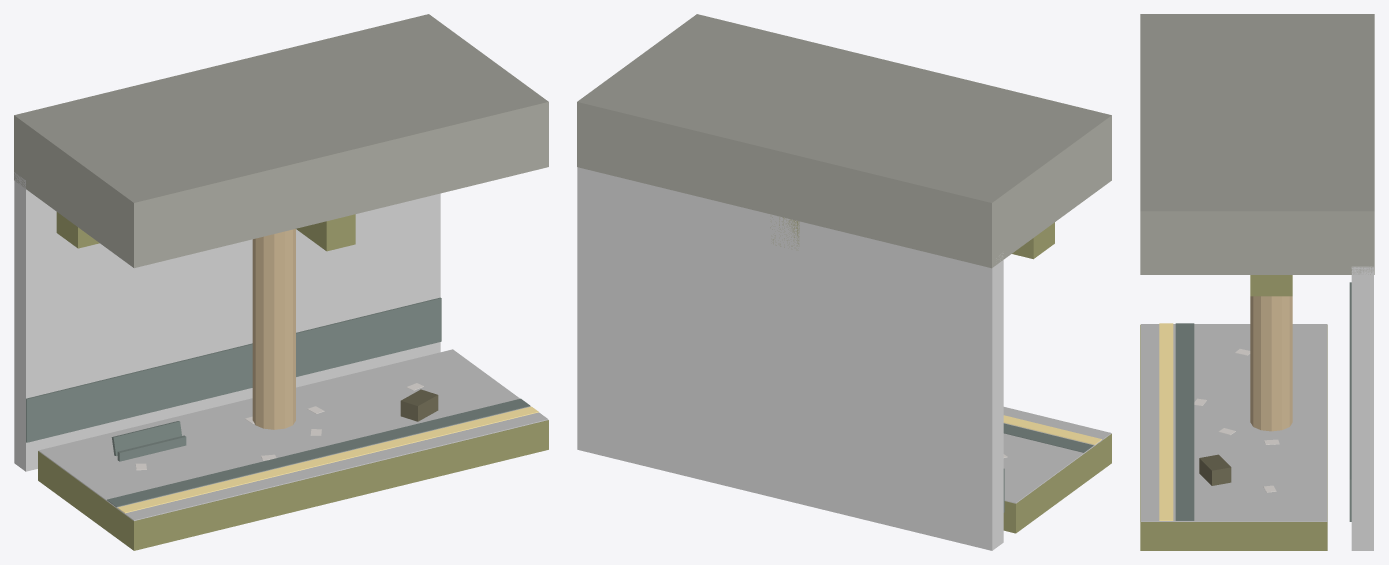
Rendered from SM_AndenLosa_Lateral_v0_Abandonada_LOD0.fbx.
The picture shows the model from 3 angles, left to right: view 1: azimuth 30°, elevation 25°; view 2: azimuth 150°, elevation 25°; view 3: azimuth 270°, elevation 25°; orthographic projection. The views are drawn at different scales.
Parts seen in each view (by area): view 1: SM_anden_losa_v5_LOD0, Losa; view 2: SM_anden_losa_v5_LOD0, Losa; view 3: Losa, SM_anden_losa_v5_LOD0.
Part boxes in pixels (x1,y1,x2,y2): SM_anden_losa_v5_LOD0: (14, 172, 548, 550); Losa: (14, 14, 548, 268); SM_anden_losa_v5_LOD0: (577, 167, 1111, 550); Losa: (577, 14, 1111, 268); Losa: (1140, 14, 1374, 296); SM_anden_losa_v5_LOD0: (1140, 266, 1373, 550).
Size of the model in its own units: 9.98 by 8 by 5.
